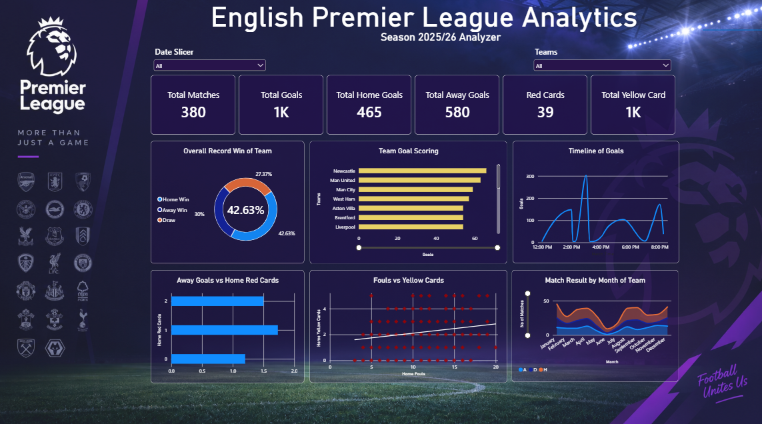

What the dashboard file says about the page in this screenshot:
{"tool":"powerbi","page":{"name":"Page 1","canvas":[1920,1080],"ordinal":0},"visuals":[{"type":"textbox","title":"English Premier League Analytics","box":[535.3,10.4,1213.8,91.2],"z":0},{"type":"slicer","fields":{"Values":["EnglishPremierLeague_cleaned.Match_Date"]},"box":[388,125,290,72],"z":1000},{"type":"cardVisual","fields":{"Data":["EnglishPremierLeague_cleaned.GameCount","EnglishPremierLeague_cleaned.TotalGoals","Sum(EnglishPremierLeague_cleaned.Full_Time_Away_Goals)","Sum(EnglishPremierLeague_cleaned.Full_Time_Home_Goals)","EnglishPremierLeague_cleaned.RedCards","EnglishPremierLeague_cleaned.TotalYellowCard"]},"box":[385.7,198.6,1317.5,149.5],"z":2000},{"type":"textbox","title":"Season 2025/26 Analyzer","box":[908.3,86.7,405,45],"z":3000},{"type":"shape","box":[1764,10.5,156,150],"z":4000},{"type":"donutChart","title":"Overall Record Win of Team","fields":{"Y":["EnglishPremierLeague_cleaned.Home Win %","Sum(EnglishPremierLeague_cleaned.Away Win %)","EnglishPremierLeague_cleaned.Draw Ratio"]},"box":[386,362,384,306],"z":5000},{"type":"barChart","title":"Team Goal Scoring","fields":{"Category":["EnglishPremierLeague_cleaned.Home_Team"],"Y":["EnglishPremierLeague_cleaned.TotalGoals"]},"box":[782.2,362.2,493.3,306.7],"z":6000},{"type":"slicer","fields":{"Values":["EnglishPremierLeague_cleaned.Home_Team"]},"box":[1336.2,125,353.3,73.3],"z":7000},{"type":"lineChart","title":"Timeline of Goals","fields":{"Category":["EnglishPremierLeague_cleaned.Match_Time"],"Y":["EnglishPremierLeague_cleaned.TotalGoals"]},"box":[1288.8,362.5,416.2,305],"z":8000},{"type":"clusteredBarChart","title":"Away Goals vs Home Red Cards","fields":{"Category":["EnglishPremierLeague_cleaned.Home_Red_Cards"],"Y":["Avg(EnglishPremierLeague_cleaned.Full_Time_Away_Goals)"]},"box":[385.7,684.3,384.3,282.9],"z":9000},{"type":"scatterChart","title":"Fouls vs Yellow Cards","fields":{"X":["EnglishPremierLeague_cleaned.Home_Fouls"],"Y":["EnglishPremierLeague_cleaned.Home_Yellow_Cards"]},"box":[782,684,494,282],"z":10000},{"type":"stackedAreaChart","title":"Match Result by Month of  Team","fields":{"Category":["EnglishPremierLeague_cleaned.Match_Date.Variation.Date Hierarchy.Month"],"Series":["EnglishPremierLeague_cleaned.Full_Time_Result"],"Y":["CountNonNull(EnglishPremierLeague_cleaned.Home_Team)"]},"box":[1288.3,685,416.7,280],"z":11000}]}

Visuals, with their boxes in screenshot pixels (x1, y1, x2, y2), scaled from the page's 1920x1080 canvas onto the 762x424 screenshot:
"English Premier League Analytics" textbox: (212, 4, 694, 40)
slicer - EnglishPremierLeague_cleaned.Match_Date: (154, 49, 269, 77)
cardVisual - EnglishPremierLeague_cleaned.GameCount x EnglishPremierLeague_cleaned.TotalGoals: (153, 78, 676, 137)
"Season 2025/26 Analyzer" textbox: (360, 34, 521, 52)
shape: (700, 4, 761, 63)
"Overall Record Win of Team" donutChart: (153, 142, 306, 262)
"Team Goal Scoring" barChart: (310, 142, 506, 263)
slicer - EnglishPremierLeague_cleaned.Home_Team: (530, 49, 671, 78)
"Timeline of Goals" lineChart: (511, 142, 677, 262)
"Away Goals vs Home Red Cards" clusteredBarChart: (153, 269, 306, 380)
"Fouls vs Yellow Cards" scatterChart: (310, 269, 506, 379)
"Match Result by Month of  Team" stackedAreaChart: (511, 269, 677, 379)
